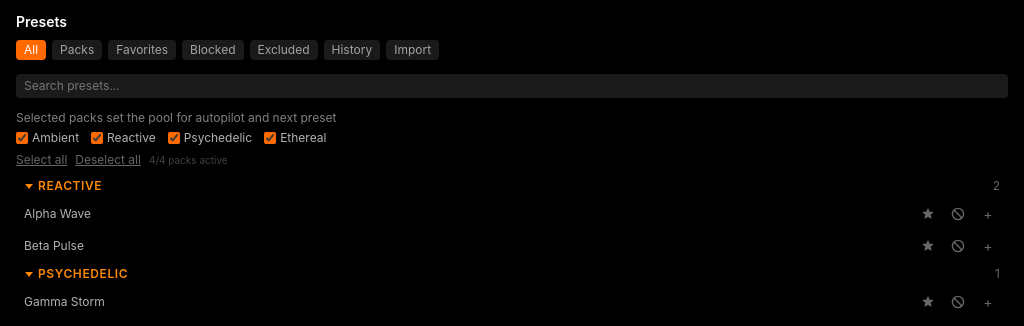
Test: PresetBrowser › shows history tab
This screenshot has width=1024, height=326.
Click the button "history" at (352, 50), box [324, 40, 380, 60]
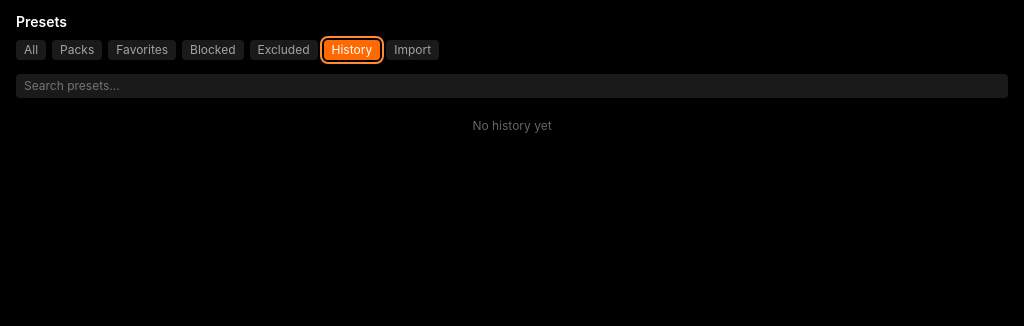
Now the text "No history yet" is shown, box [472, 118, 552, 133]
